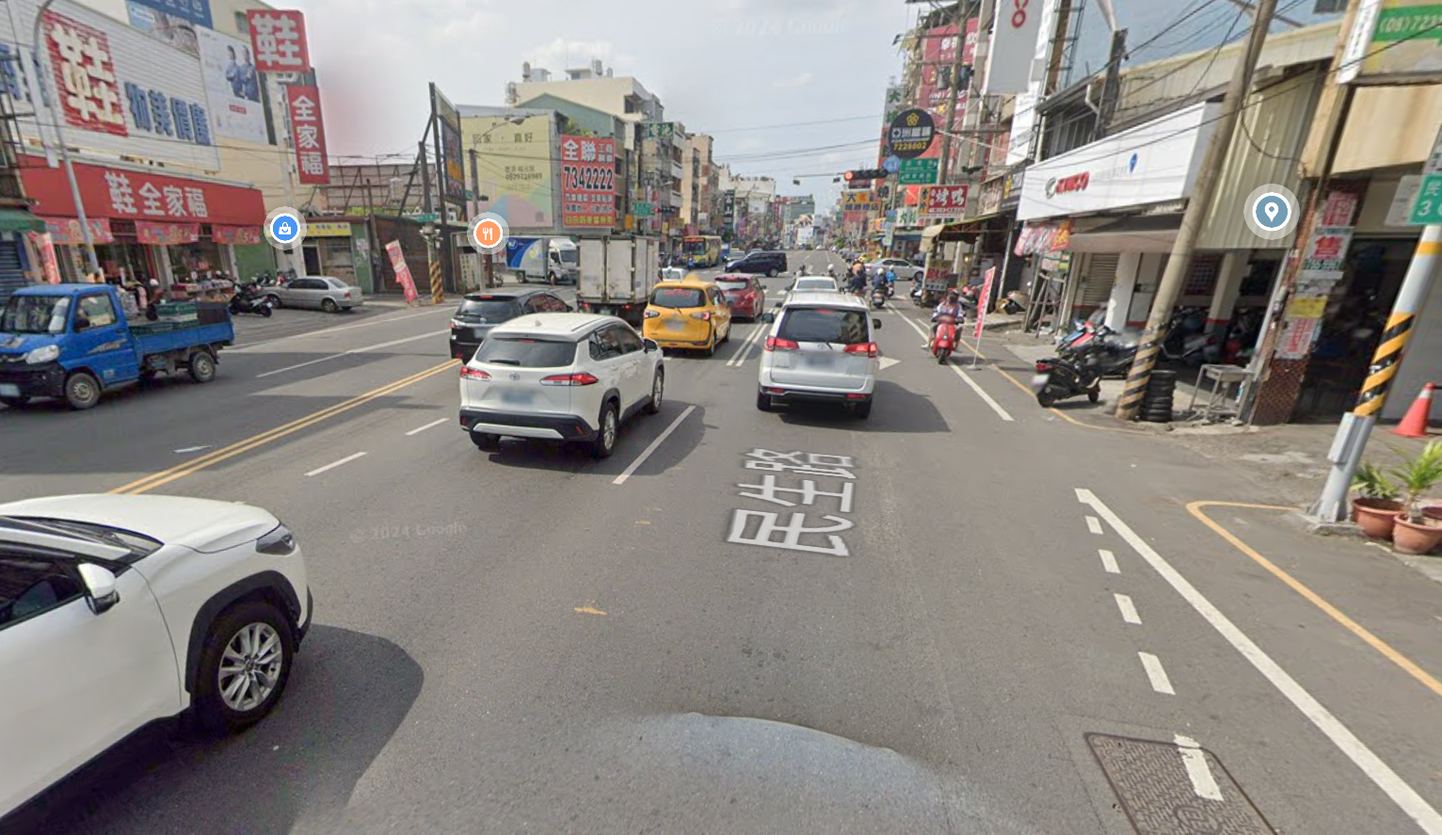red: (841, 167, 894, 182), (652, 201, 674, 214)
